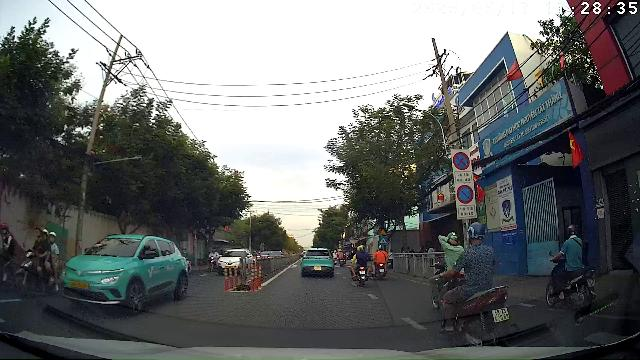130-cam-dung-va-do-xe: (452, 151, 470, 170)
131a-cam-do-xe: (456, 184, 474, 204)
